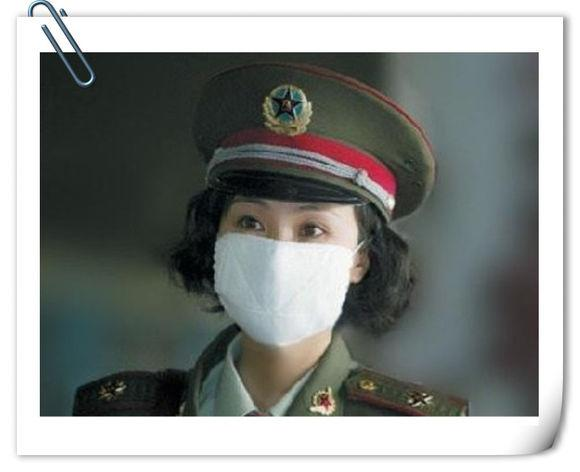OK: (206, 192, 363, 349)
